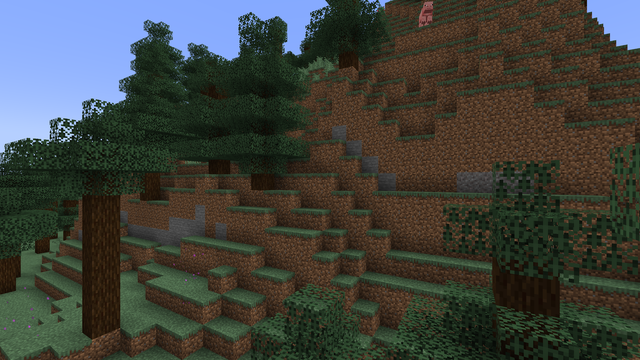cochons: (417, 5, 433, 26)
